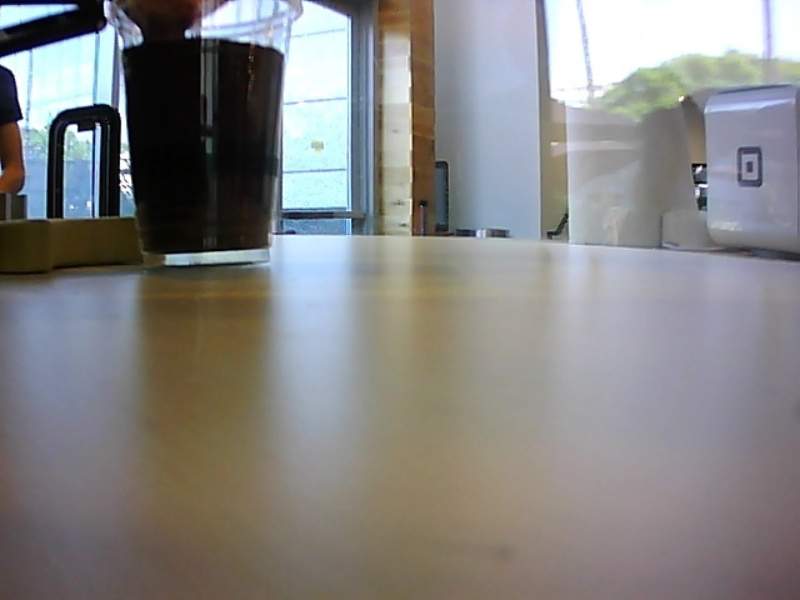cup: (98, 1, 306, 276)
limit: (121, 29, 287, 59)
